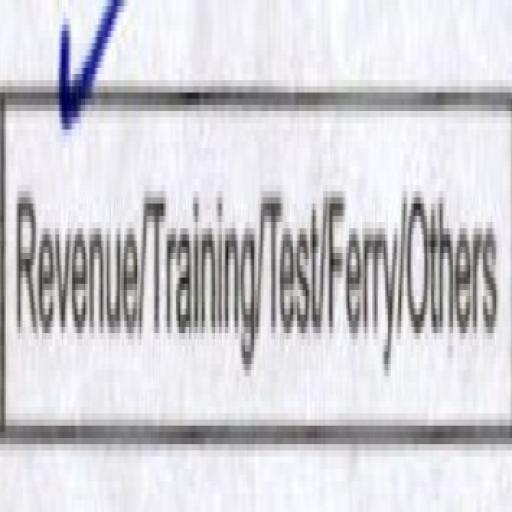check: (0, 0, 141, 468)
